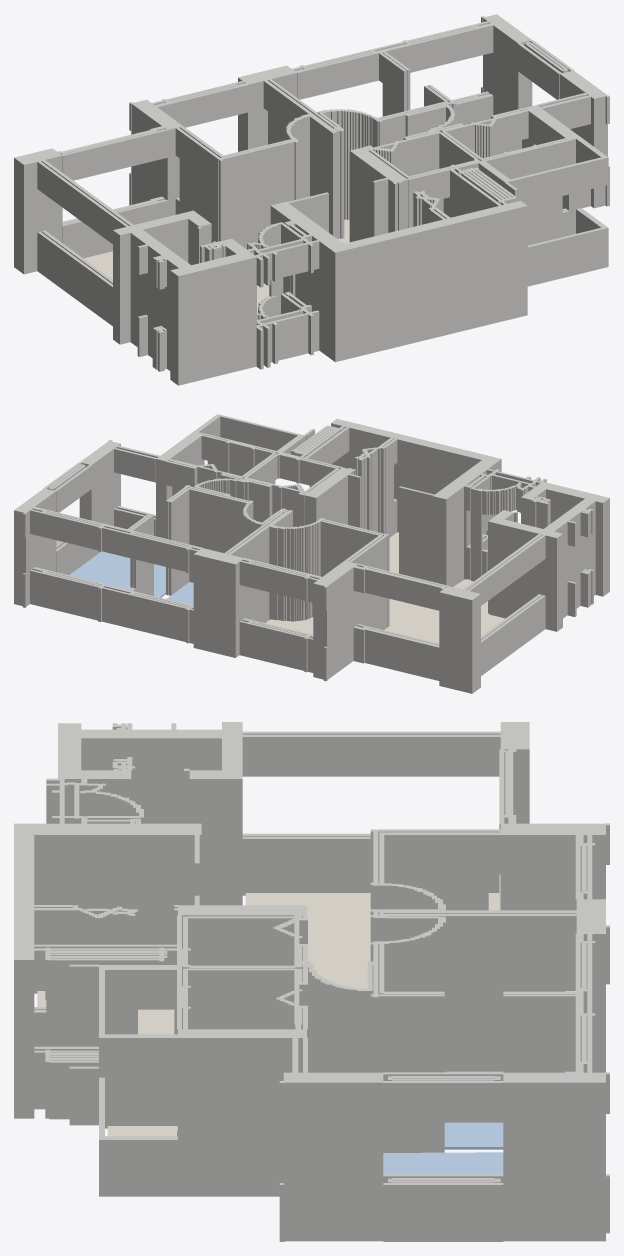
3 renders of one model, top to bottom at view 1: azimuth 30°, elevation 25°; view 2: azimuth 150°, elevation 25°; view 3: azimuth 270°, elevation 25°, orthographic. The views are drawn at different scales.
Parts seen in each view (by area): view 1: walls, room:other:5; view 2: walls, room:other:5, room:bedroom:1, room:other:4; view 3: walls, room:other:5, room:bedroom:1, room:bedroom:0, room:other:8.
Boxes of the visible parts, x1,y1,x2,y2 form: walls: (14,14,609,385); room:other:5: (84,219,349,313); walls: (14,414,609,693); room:other:5: (384,532,505,643); room:bedroom:1: (69,551,165,597); room:other:4: (265,617,313,634); walls: (14,722,609,1241); room:other:5: (37,893,499,1034); room:bedroom:1: (383,1152,503,1174); room:bedroom:0: (444,1071,575,1149); room:other:8: (107,1126,176,1136).
Bounding box in the file's own units: 13.65 × 2.8 × 9.52.
